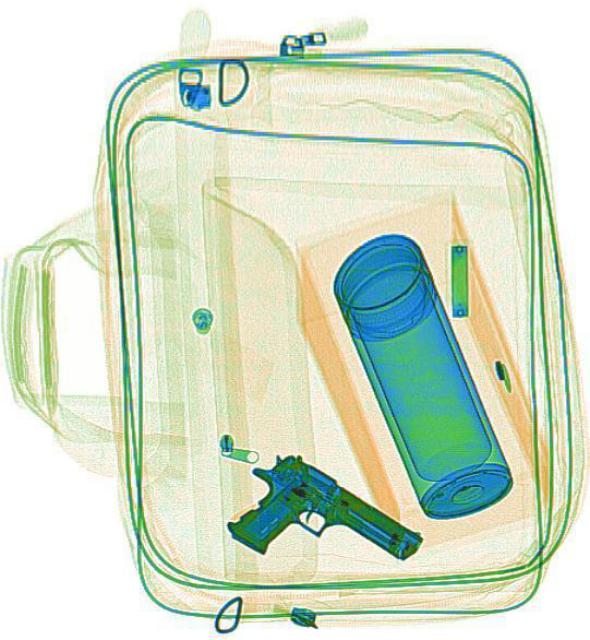Gun: (212, 437, 422, 623)
